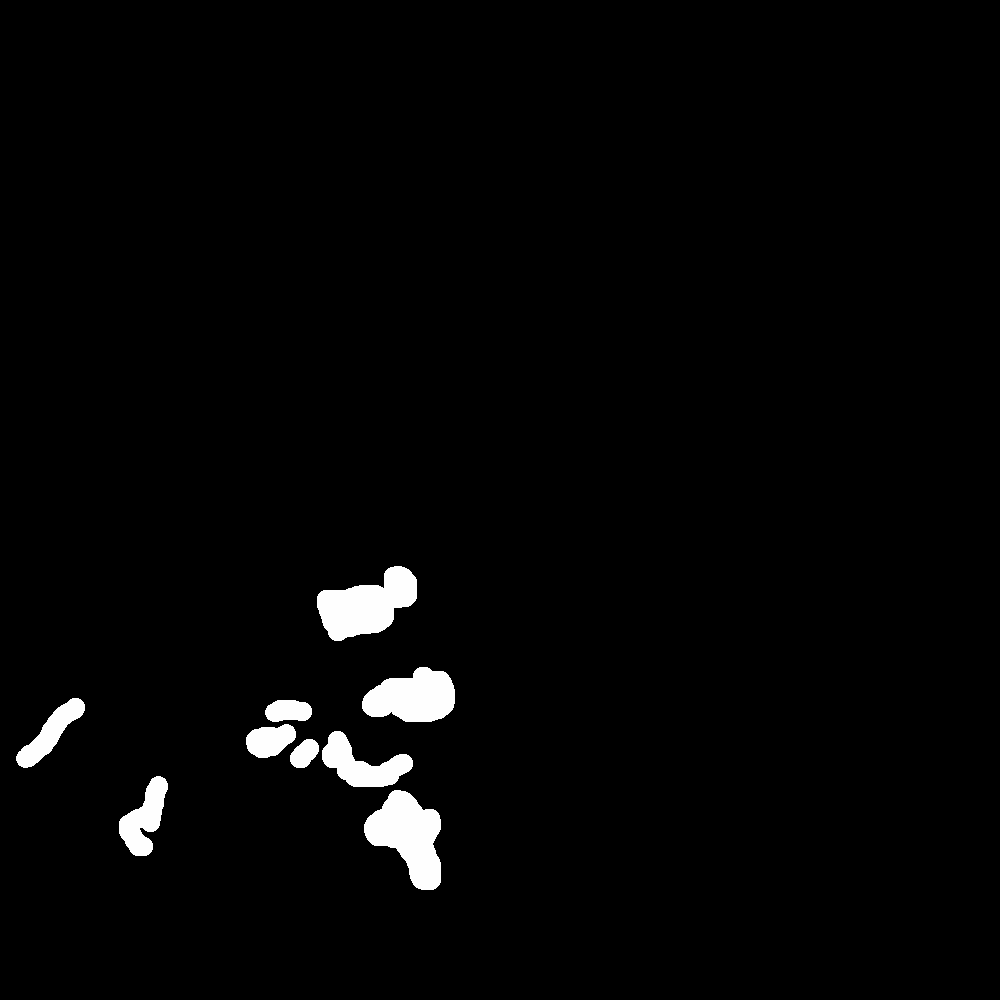illegal: (326, 736, 443, 898), (21, 690, 112, 769), (321, 566, 421, 636), (258, 653, 313, 763), (363, 663, 454, 726), (124, 776, 179, 857), (128, 935, 178, 1000), (257, 789, 307, 805)
